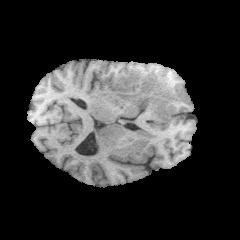glioma: (116, 69, 180, 122)
